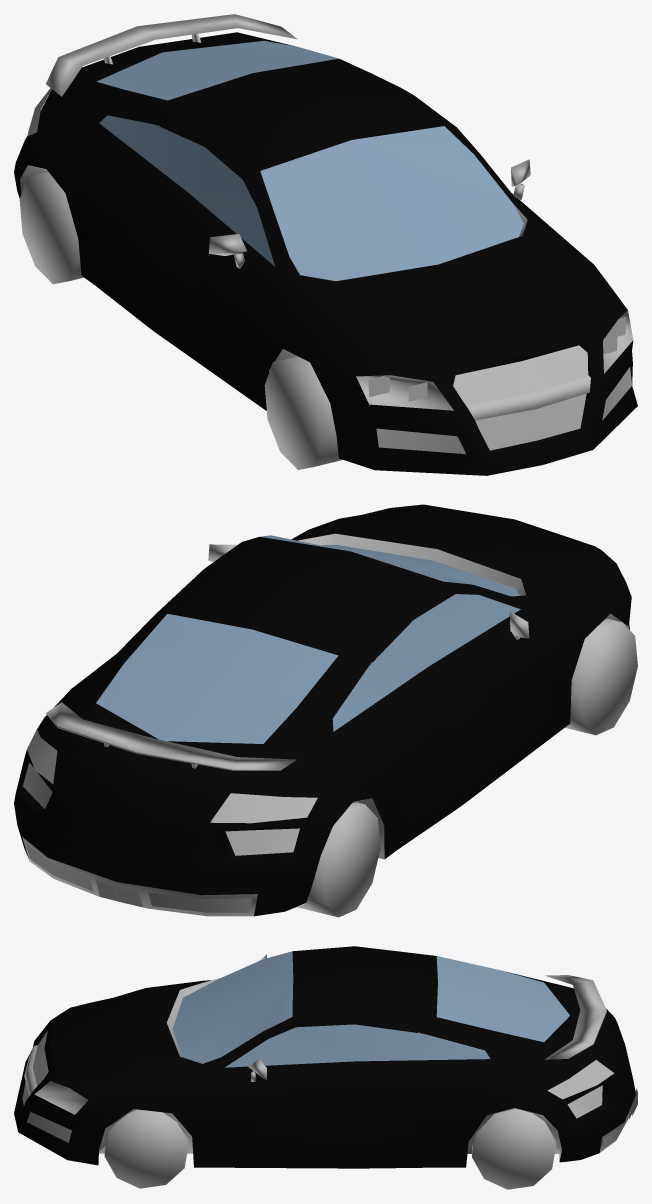
Rendered from Car_39_LOD2.FBX.
The picture shows the model from 3 angles, top to bottom: view 1: azimuth 30°, elevation 25°; view 2: azimuth 150°, elevation 25°; view 3: azimuth 270°, elevation 25°; orthographic projection. The views are drawn at different scales.
Visible parts, largest first — view 1: Body_039_LOD2, Glass_039_LOD2, Matte_039_LOD2, Wheel_R_LOD2, Wheel_Back_R_LOD2; view 2: Body_039_LOD2, Glass_039_LOD2, Matte_039_LOD2, Wheel_R_LOD2, Wheel_Back_R_LOD2, Taillights_039_LOD2; view 3: Body_039_LOD2, Glass_039_LOD2, Matte_039_LOD2, Wheel_Back_L_LOD2, Wheel_L_LOD2, Taillights_039_LOD2.
Boxes of the visible parts, left/top/right/bottom form: Body_039_LOD2: left=14, top=32, right=637, bottom=475; Glass_039_LOD2: left=96, top=40, right=525, bottom=280; Matte_039_LOD2: left=20, top=14, right=633, bottom=454; Wheel_R_LOD2: left=264, top=356, right=342, bottom=469; Wheel_Back_R_LOD2: left=19, top=172, right=83, bottom=284; Body_039_LOD2: left=14, top=504, right=631, bottom=916; Glass_039_LOD2: left=96, top=535, right=520, bottom=743; Matte_039_LOD2: left=22, top=533, right=628, bottom=916; Wheel_R_LOD2: left=565, top=619, right=637, bottom=735; Wheel_Back_R_LOD2: left=297, top=802, right=380, bottom=917; Taillights_039_LOD2: left=27, top=729, right=317, bottom=823; Body_039_LOD2: left=14, top=946, right=635, bottom=1168; Glass_039_LOD2: left=172, top=951, right=569, bottom=1067; Matte_039_LOD2: left=22, top=954, right=637, bottom=1162; Wheel_Back_L_LOD2: left=472, top=1109, right=556, bottom=1189; Wheel_L_LOD2: left=104, top=1109, right=188, bottom=1188; Taillights_039_LOD2: left=547, top=1060, right=614, bottom=1099.
Bounding box in the file's own units: 1.87 × 1.23 × 4.29.
